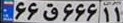character: (41, 1, 60, 23), (60, 1, 75, 23), (26, 1, 41, 22), (74, 1, 87, 23), (86, 1, 99, 23), (14, 1, 27, 21), (102, 6, 113, 23), (112, 6, 123, 23)
